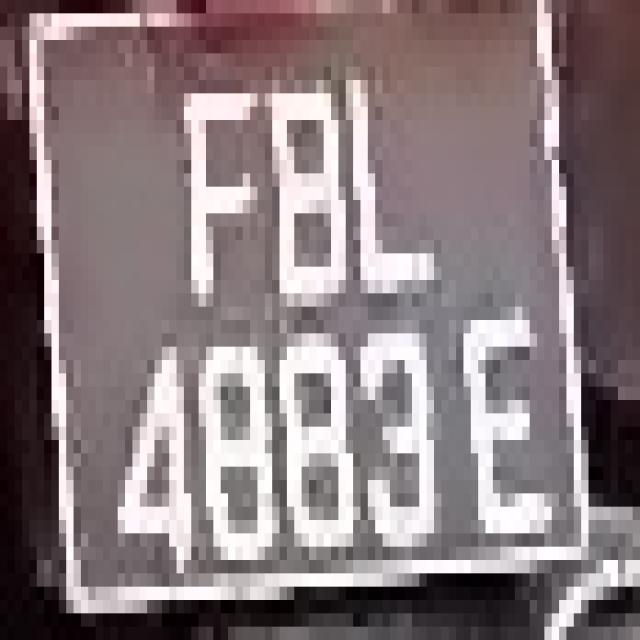3: (338, 294, 442, 574)
4: (81, 307, 191, 600)
8: (257, 320, 368, 587), (199, 307, 287, 573)
B: (236, 26, 360, 306)
E: (464, 253, 566, 587)
F: (155, 40, 250, 320)
L: (324, 27, 448, 320)
